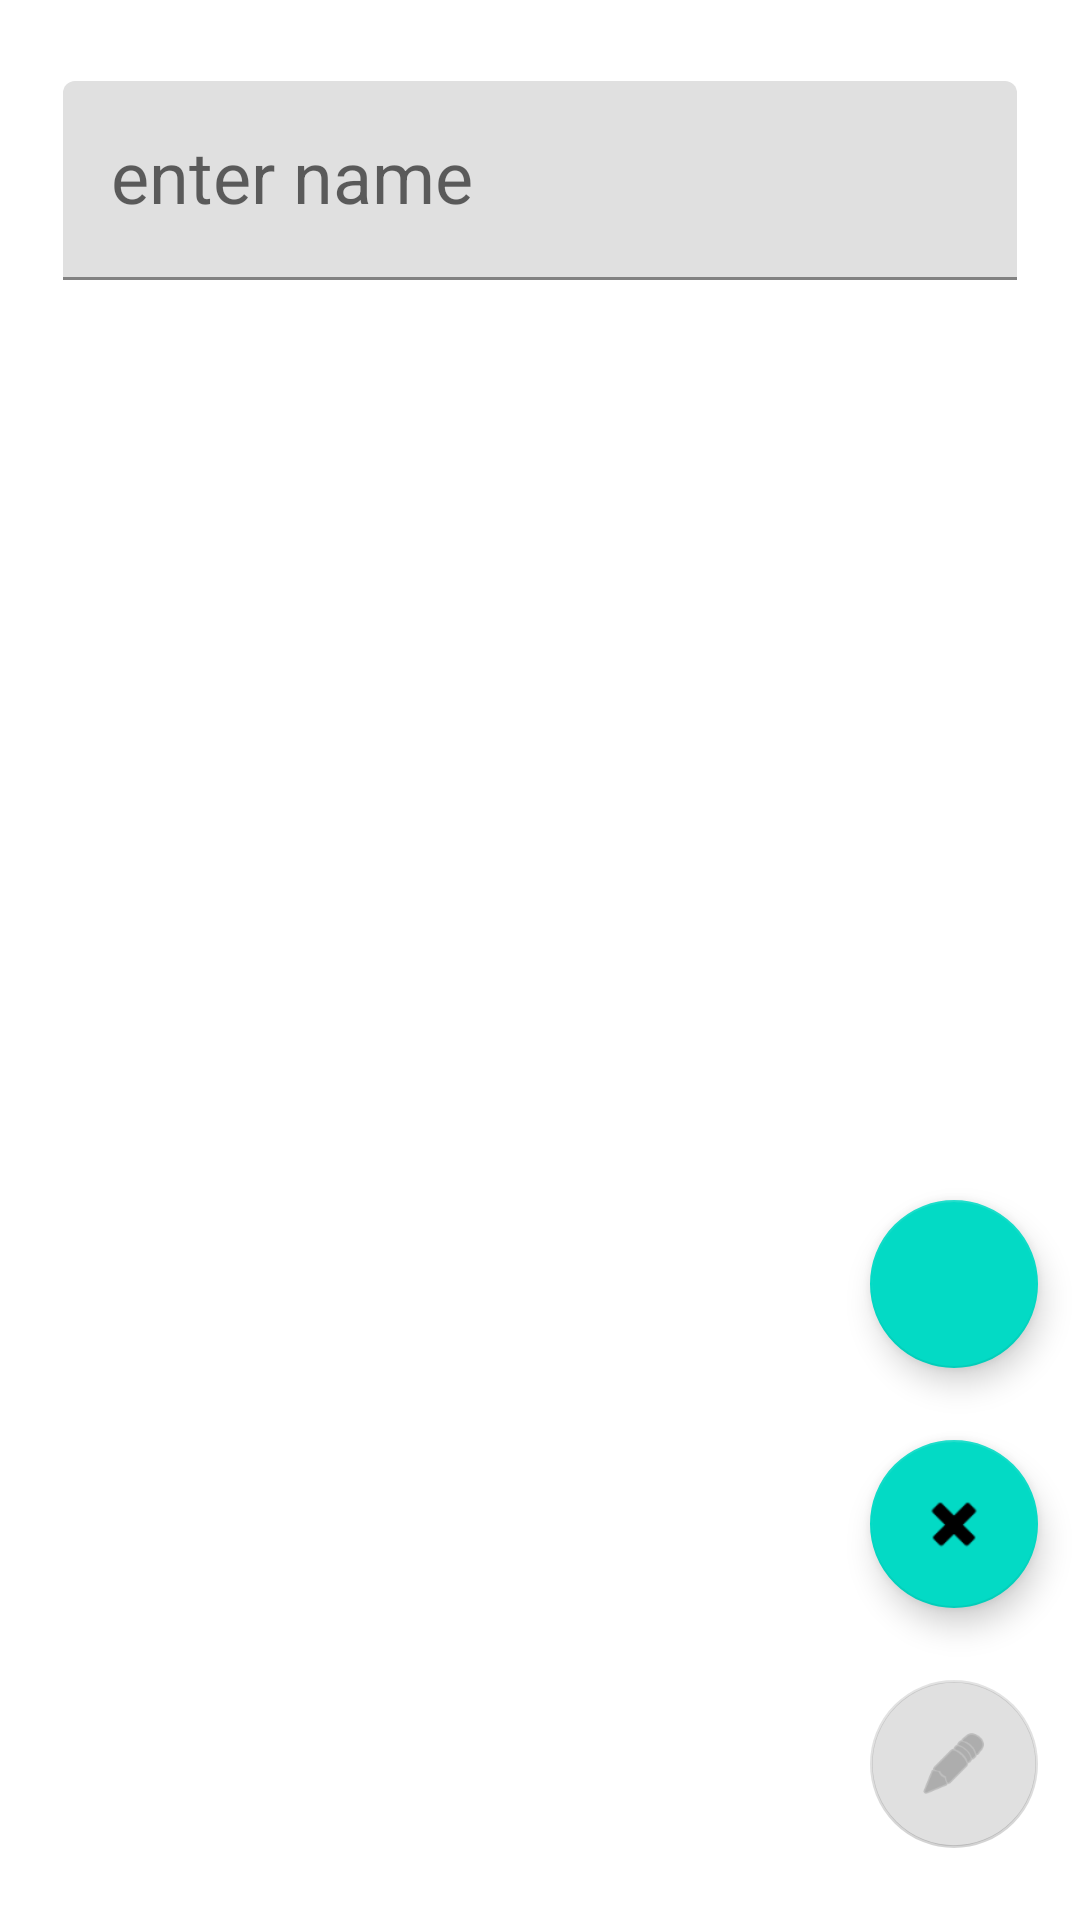

Locate icon controls on the screen. Image size 1080 x 1920, boxes as [x1, y1, x2, y2].
edit button: [870, 1680, 1038, 1848]
remove button: [870, 1440, 1038, 1608]
